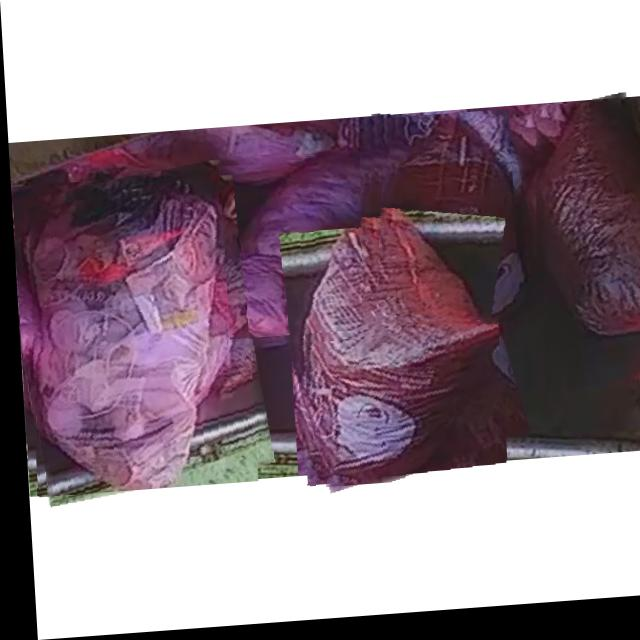other_trashbag: (26, 194, 243, 492), (300, 239, 494, 490), (375, 121, 514, 327), (222, 161, 374, 340), (531, 110, 640, 346)
